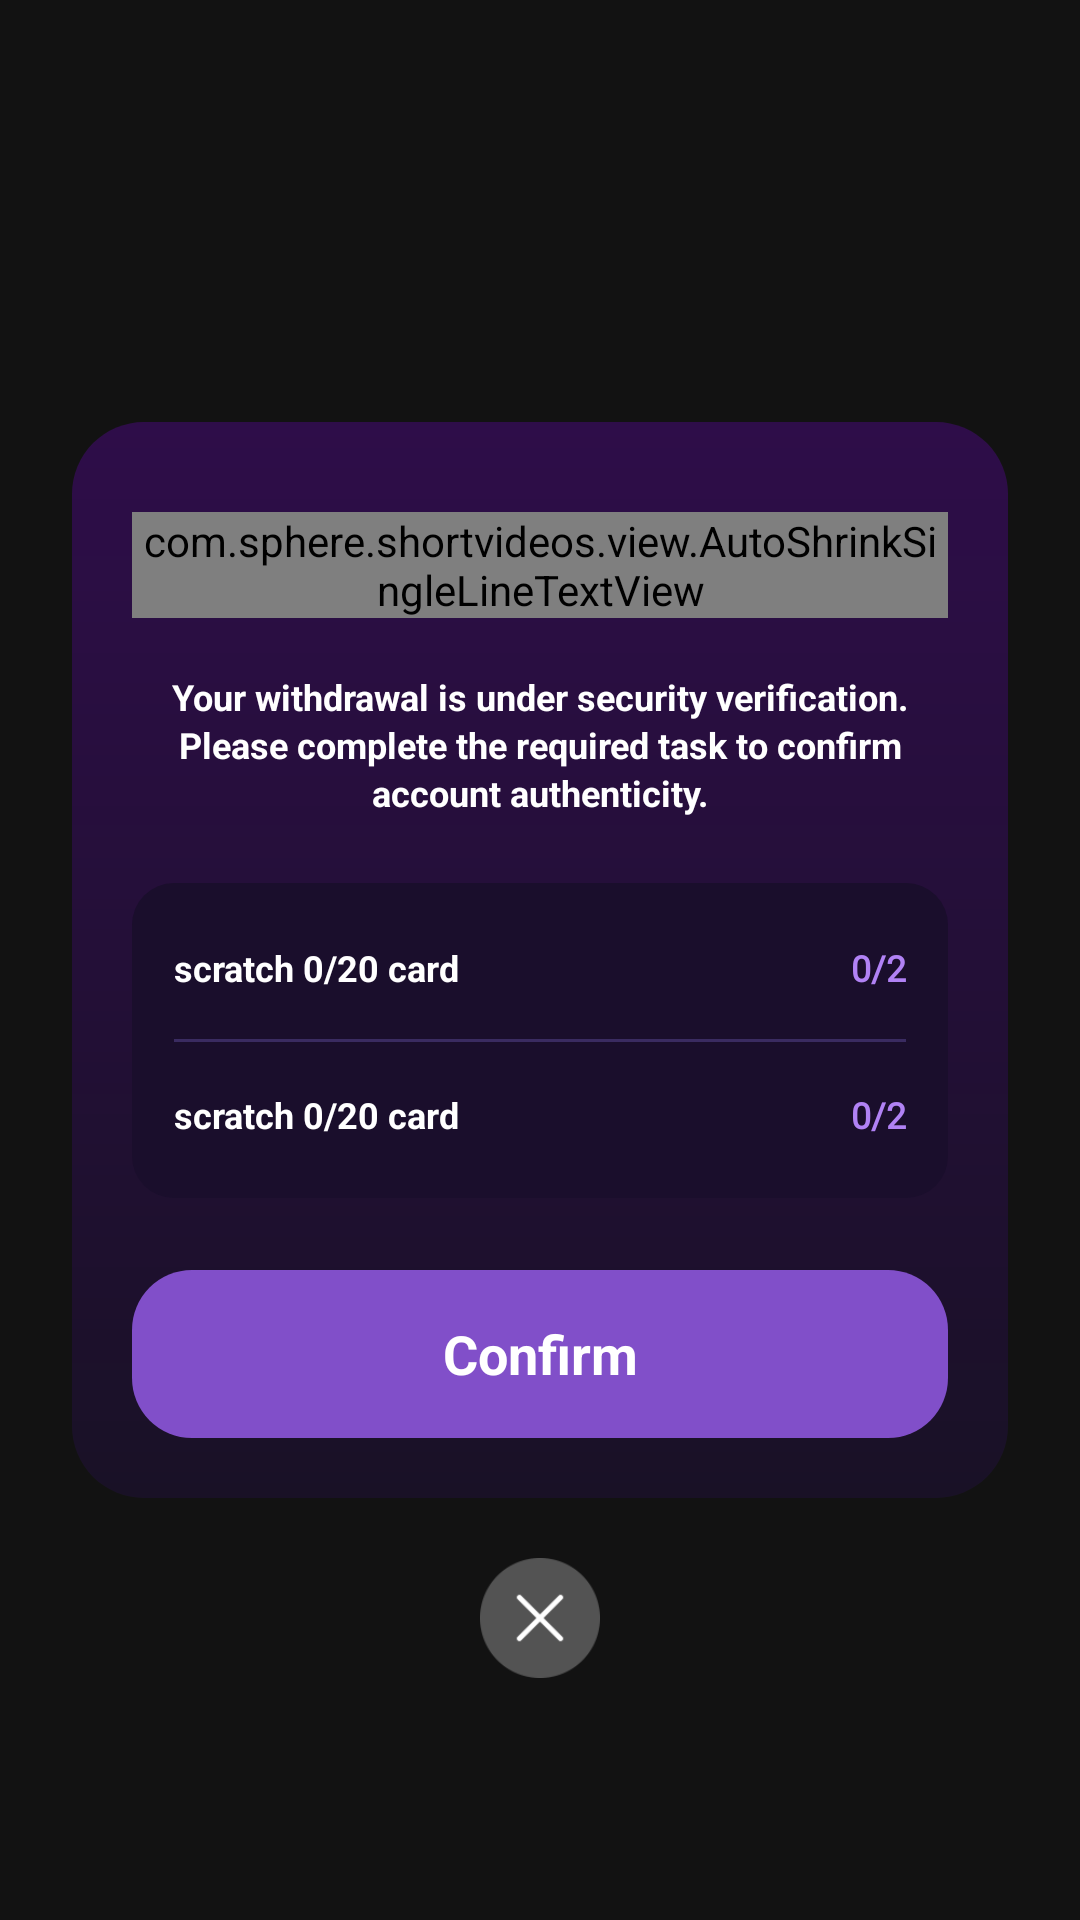

Icon click points for this 1080×1920 phone screenshot, format (x=x, y=y):
close: (x=540, y=1618)
